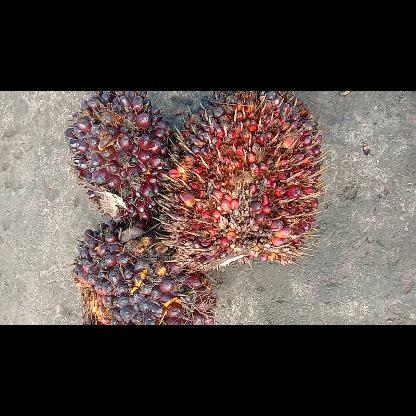Kurang masak: (62, 90, 178, 220), (72, 220, 216, 324)
TBS masak: (168, 92, 324, 262)
